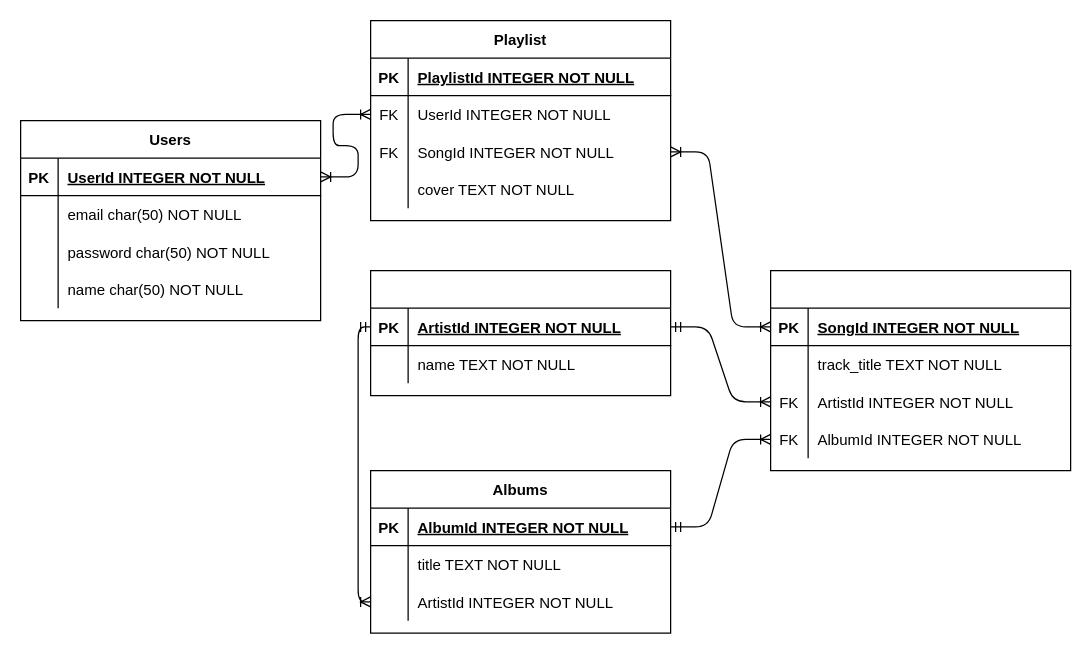
Image size: 1091x654. Some labels were removed from this diagram. The shapes that lost their labels are listed below. From the top down, each one's box as (x1, y1, x2, y2) in pixels, then its label:
(369, 269, 671, 396): Artists
(769, 269, 1071, 471): Songs
